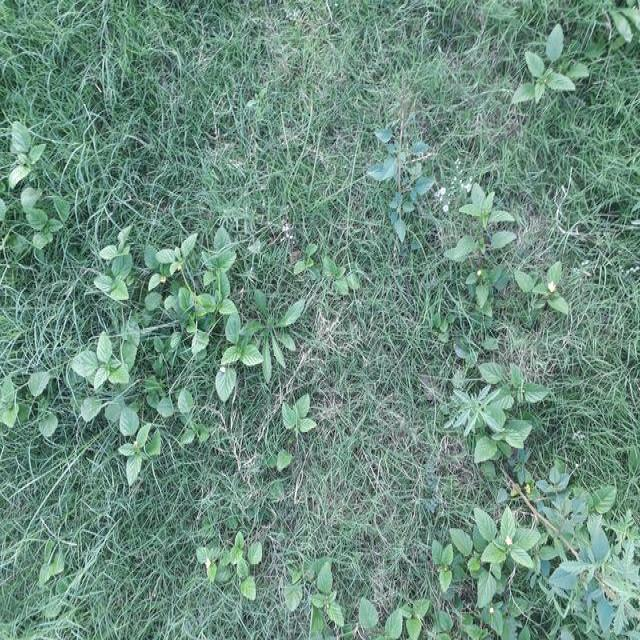weed: (82, 226, 292, 380), (456, 487, 640, 636), (0, 351, 165, 459), (441, 185, 563, 324), (452, 352, 531, 455), (370, 121, 426, 252), (9, 127, 58, 260), (345, 596, 460, 640), (518, 28, 580, 104), (206, 521, 262, 600), (284, 568, 343, 627), (286, 376, 318, 454)
